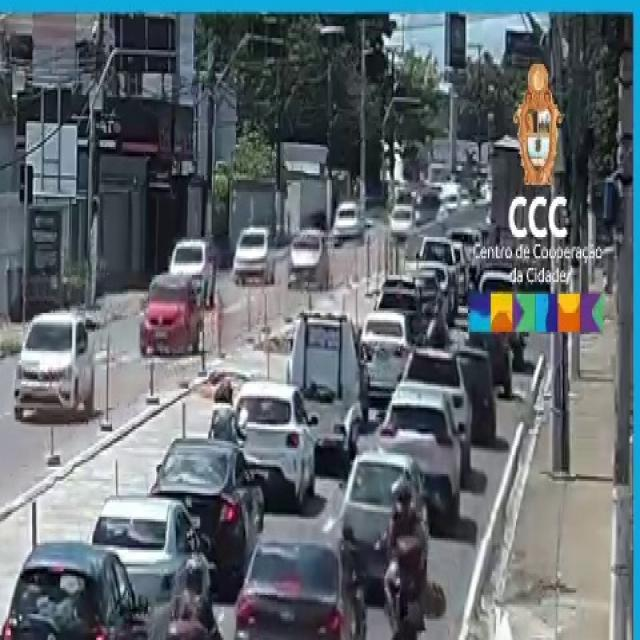biker: (377, 474, 432, 640), (163, 550, 228, 640)
car: (3, 526, 160, 640), (233, 528, 371, 640), (152, 434, 262, 574), (227, 375, 320, 517), (6, 309, 96, 432), (135, 273, 201, 356), (228, 223, 272, 290), (283, 230, 331, 290), (170, 235, 213, 295), (0, 607, 33, 640)
